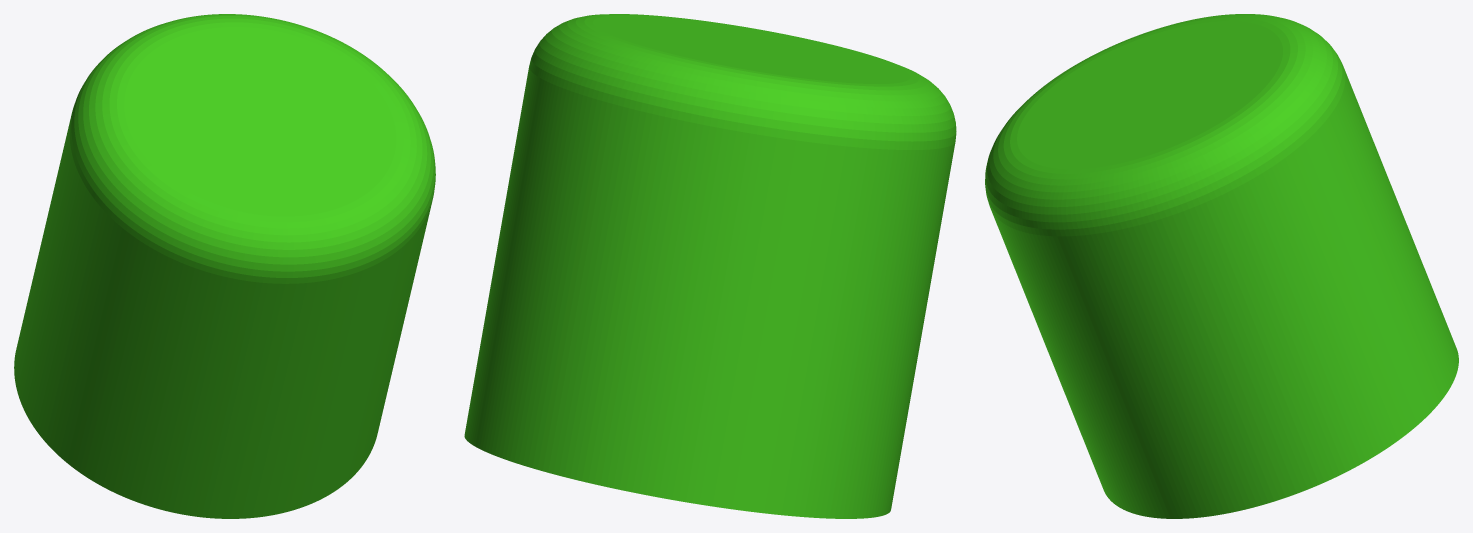
File: Button_Podium.glb
3 views of the same model, side by side, from view 1: azimuth 30°, elevation 25°; view 2: azimuth 150°, elevation 25°; view 3: azimuth 270°, elevation 25° (orthographic). The views are drawn at different scales.
Visible parts, largest first — view 1: Cylinder; view 2: Cylinder; view 3: Cylinder.
Part boxes in pixels (box(x1,y1,x2,y2)): Cylinder: box(14, 14, 435, 518); Cylinder: box(464, 14, 956, 518); Cylinder: box(985, 14, 1458, 518).
Size of the model in its own units: 0.1 by 0.1246 by 0.1246.
